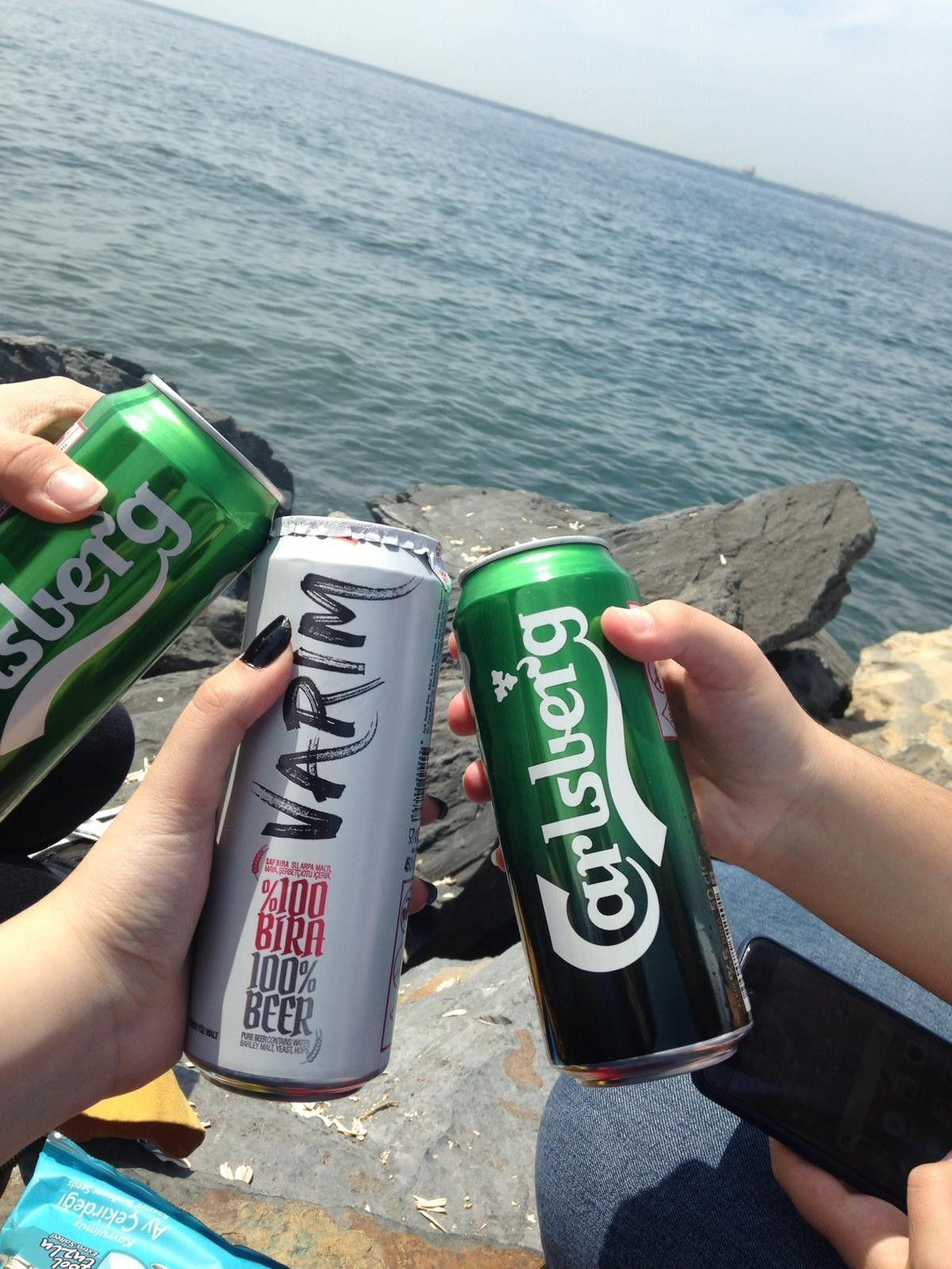tin can: (450, 528, 755, 1085), (175, 513, 455, 1106), (1, 374, 281, 824)
